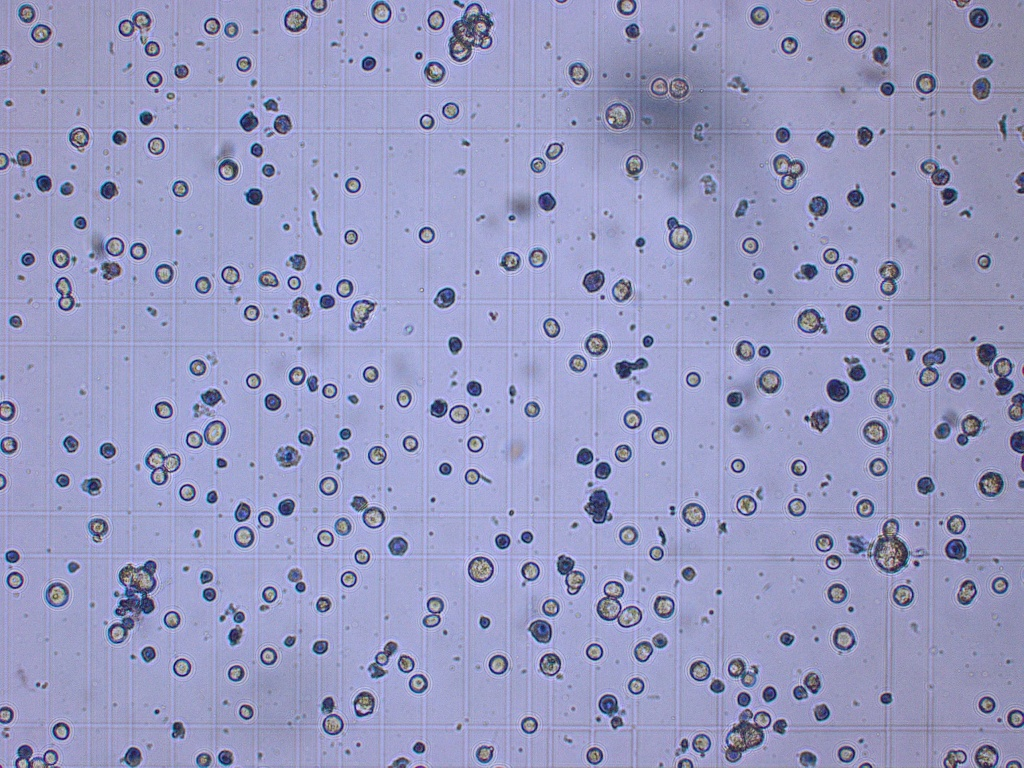Aggregate: (112, 557, 158, 618), (451, 2, 493, 49)
dead: (583, 487, 611, 524), (274, 445, 301, 469), (806, 409, 831, 432), (826, 379, 849, 402), (529, 620, 552, 641), (290, 295, 310, 319), (945, 538, 966, 560), (583, 271, 604, 291), (967, 8, 987, 28), (201, 389, 224, 406), (916, 475, 935, 495), (976, 344, 995, 364), (809, 196, 828, 216), (435, 288, 454, 308), (123, 748, 143, 767), (82, 477, 102, 496), (973, 78, 991, 99), (599, 694, 617, 715), (272, 114, 290, 134), (651, 633, 670, 651), (1010, 430, 1024, 454), (576, 447, 594, 465), (430, 398, 448, 416), (100, 180, 118, 198), (239, 112, 257, 130), (995, 377, 1012, 396), (940, 188, 959, 205), (390, 538, 407, 557), (844, 305, 862, 322), (539, 192, 556, 210), (594, 462, 612, 479), (235, 503, 252, 521), (99, 441, 117, 458), (681, 564, 698, 582), (289, 253, 305, 272), (857, 125, 871, 146), (141, 594, 155, 615), (557, 557, 574, 574), (278, 499, 295, 516), (264, 393, 281, 410), (63, 435, 80, 452), (35, 174, 52, 191), (949, 372, 965, 390), (849, 366, 867, 382), (923, 349, 944, 362), (814, 703, 830, 720), (799, 750, 816, 766), (320, 696, 335, 714), (247, 189, 262, 207), (934, 423, 950, 439), (727, 391, 743, 407), (140, 646, 156, 662), (15, 151, 31, 167), (800, 263, 817, 278), (300, 429, 315, 446), (932, 170, 950, 184), (848, 191, 864, 206), (817, 131, 833, 146), (18, 743, 33, 759), (319, 294, 335, 309), (880, 79, 894, 96), (874, 46, 886, 65), (775, 127, 790, 142), (349, 494, 364, 509), (467, 382, 482, 396), (218, 751, 233, 765), (260, 164, 275, 178), (112, 131, 127, 145), (174, 62, 188, 77), (764, 686, 777, 702), (774, 718, 787, 734), (792, 685, 808, 698), (10, 313, 23, 329), (229, 626, 240, 644), (710, 678, 724, 692), (496, 535, 510, 549), (6, 549, 20, 563), (361, 57, 375, 71), (139, 111, 153, 125), (206, 488, 218, 504), (21, 253, 37, 265), (737, 692, 750, 706), (978, 55, 991, 69), (200, 570, 214, 583), (625, 25, 640, 37), (60, 183, 75, 195), (725, 750, 741, 761), (450, 337, 461, 353), (520, 530, 533, 543), (314, 640, 327, 653), (439, 461, 452, 474), (75, 215, 88, 228), (642, 333, 654, 347), (56, 473, 68, 487), (781, 633, 793, 646), (204, 588, 217, 600), (252, 143, 264, 156), (480, 616, 492, 628), (880, 692, 893, 703), (754, 267, 765, 280), (341, 427, 352, 440), (233, 611, 246, 622), (265, 99, 276, 112), (759, 345, 769, 359), (1, 50, 11, 64), (413, 741, 423, 753)
live: (875, 538, 908, 572), (726, 725, 765, 749), (605, 102, 629, 128), (467, 558, 492, 582), (797, 308, 820, 334), (351, 299, 373, 325), (975, 744, 999, 767), (979, 471, 1001, 496), (204, 420, 225, 446), (669, 226, 692, 249), (45, 583, 68, 606), (832, 627, 854, 651), (683, 502, 704, 527), (863, 421, 886, 443), (585, 333, 607, 356), (598, 596, 619, 620), (618, 605, 642, 626), (353, 692, 374, 716), (758, 371, 780, 393), (424, 61, 446, 83), (284, 10, 306, 32), (68, 127, 90, 149), (891, 585, 914, 606), (653, 595, 674, 618), (565, 568, 586, 591), (957, 579, 976, 604), (539, 653, 560, 675), (363, 507, 384, 529), (873, 387, 893, 409), (448, 41, 470, 61), (489, 653, 509, 675), (234, 527, 256, 547), (947, 513, 967, 534), (689, 661, 710, 681), (322, 715, 344, 734), (569, 63, 587, 86), (613, 280, 631, 303), (961, 415, 981, 435), (691, 733, 711, 753), (218, 159, 238, 179), (371, 1, 390, 22), (30, 24, 51, 43), (623, 409, 642, 429), (919, 367, 939, 386), (916, 73, 935, 93), (520, 561, 540, 580), (474, 745, 495, 763), (871, 324, 890, 343), (737, 495, 756, 514), (368, 445, 387, 464), (155, 264, 174, 283), (736, 340, 754, 360), (835, 264, 853, 284), (617, 526, 637, 544), (749, 7, 769, 25), (772, 154, 790, 174), (529, 247, 546, 268), (651, 425, 670, 443), (856, 498, 874, 517), (882, 517, 900, 536), (779, 36, 798, 54), (825, 10, 844, 28), (426, 10, 444, 29), (633, 642, 651, 661), (320, 477, 339, 495), (333, 517, 352, 535), (186, 430, 204, 449), (154, 400, 173, 418), (146, 449, 164, 468), (132, 11, 151, 29), (625, 155, 642, 175), (502, 251, 519, 271), (408, 675, 428, 692), (544, 316, 559, 338), (977, 695, 995, 713), (586, 642, 604, 660), (427, 597, 445, 615), (259, 647, 277, 665), (163, 611, 181, 629), (995, 358, 1012, 377), (829, 584, 846, 603), (1006, 708, 1023, 727), (651, 77, 668, 96), (568, 355, 587, 372), (221, 265, 240, 282), (90, 518, 109, 535), (54, 277, 73, 294), (879, 261, 899, 277), (836, 747, 856, 763), (604, 581, 625, 596), (869, 457, 886, 475), (847, 31, 864, 49), (670, 79, 688, 96), (543, 598, 560, 616), (586, 747, 604, 764), (108, 625, 126, 642), (106, 238, 124, 255), (52, 249, 69, 267), (204, 18, 221, 36), (19, 4, 36, 22), (728, 657, 744, 676), (289, 366, 305, 385), (2, 435, 17, 455), (822, 247, 839, 264), (450, 404, 467, 421), (614, 445, 632, 461), (788, 499, 806, 515), (814, 535, 832, 551), (363, 365, 379, 383), (805, 673, 820, 692), (616, 1, 636, 15), (259, 272, 279, 286), (1, 399, 15, 419), (647, 545, 664, 561), (545, 142, 562, 158), (235, 55, 251, 72), (227, 665, 244, 681), (174, 659, 191, 675), (195, 276, 211, 293), (7, 571, 24, 587), (879, 279, 897, 294), (165, 452, 180, 470), (54, 722, 69, 740), (397, 389, 411, 408), (119, 17, 132, 37), (992, 576, 1008, 592), (628, 678, 644, 694), (522, 717, 538, 733), (317, 530, 333, 546), (341, 571, 357, 587), (149, 138, 165, 154), (224, 21, 240, 37), (531, 156, 546, 173), (443, 102, 460, 117), (419, 112, 434, 129), (337, 279, 352, 296), (353, 549, 370, 564), (398, 655, 413, 672), (244, 304, 259, 321), (131, 242, 146, 259), (42, 749, 59, 764), (180, 483, 194, 501), (419, 226, 434, 242), (525, 401, 540, 417), (402, 435, 417, 451), (921, 158, 936, 174), (172, 181, 187, 197), (1, 704, 13, 724), (147, 71, 162, 87), (190, 361, 207, 375), (144, 41, 161, 55), (316, 596, 330, 613), (826, 554, 841, 569), (464, 469, 479, 484), (258, 511, 273, 526), (195, 753, 210, 768), (790, 460, 806, 474), (779, 175, 795, 189), (743, 237, 757, 253), (246, 372, 260, 388), (468, 435, 481, 452), (153, 468, 166, 485), (59, 297, 76, 310), (730, 458, 744, 473), (741, 672, 755, 687), (239, 704, 253, 719), (263, 586, 277, 601), (321, 383, 336, 397), (1009, 405, 1023, 419), (755, 710, 768, 725), (310, 1, 329, 11), (687, 372, 700, 386), (347, 178, 360, 192), (345, 230, 357, 245), (790, 160, 803, 173), (288, 275, 300, 289), (978, 253, 989, 268), (423, 616, 438, 627), (1, 150, 9, 170), (14, 758, 30, 767), (377, 651, 386, 665)
